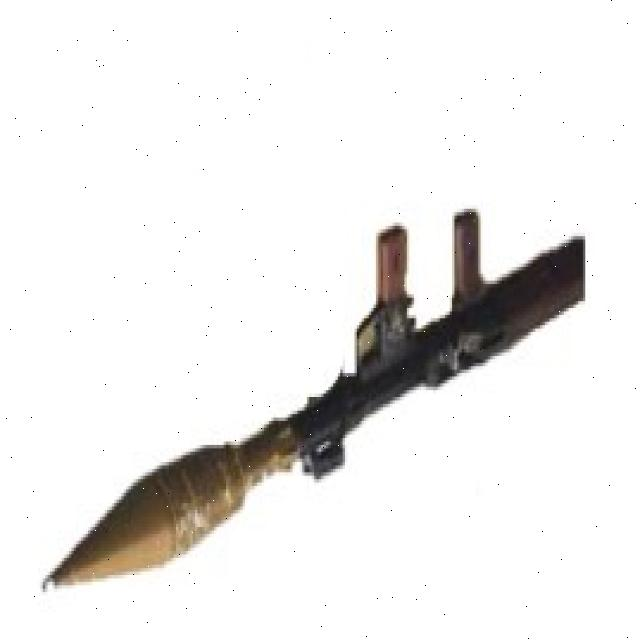bazooka: (36, 199, 589, 603)
